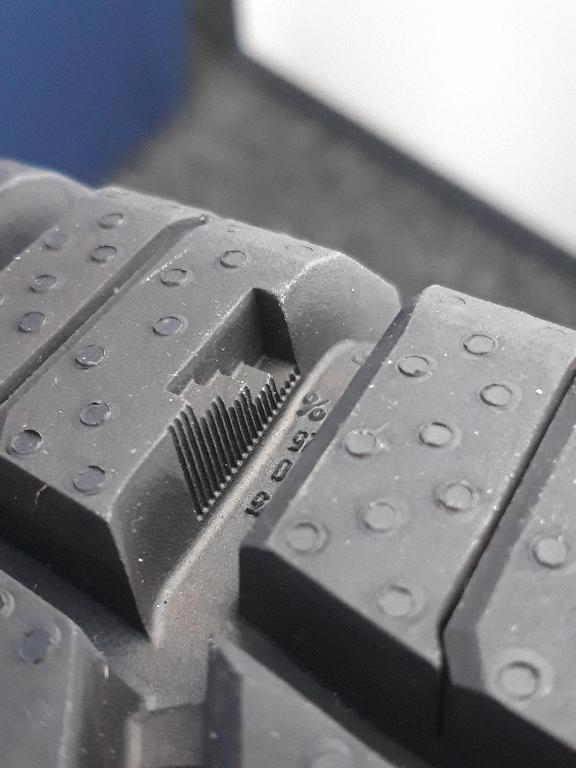temoin:100: (157, 281, 309, 528)
